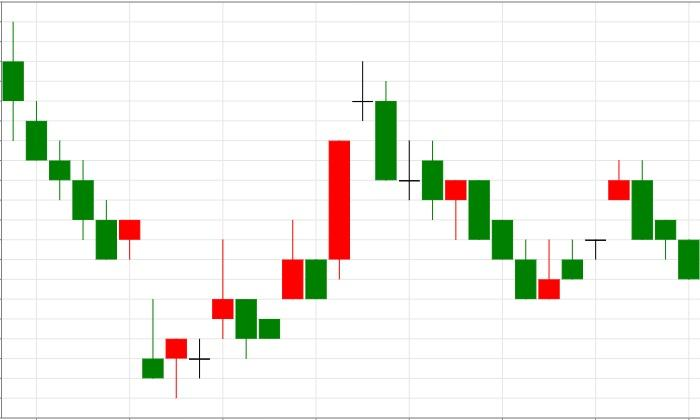evening_star_fall: (235, 60, 397, 358)
inverse_hammer_rise: (352, 61, 560, 299)
